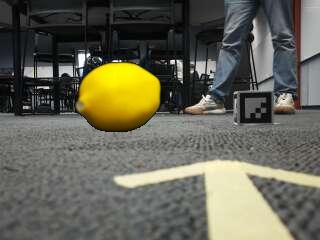lemon: (79, 64, 163, 132)
